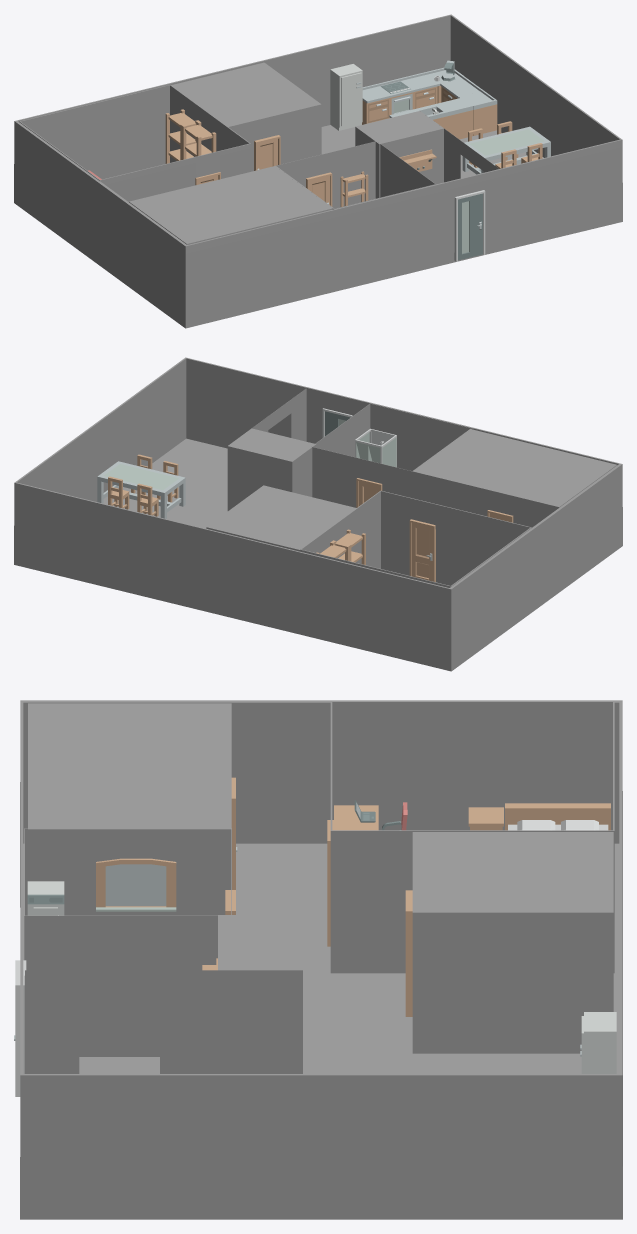
File: greybox environment 2.fbx
3 views of the same model, one above another, from view 1: azimuth 30°, elevation 25°; view 2: azimuth 150°, elevation 25°; view 3: azimuth 270°, elevation 25° (orthographic). The views are drawn at different scales.
Parts seen in each view (by area): view 1: pCube5, pCube1, pCube3, pCube4, pCube2, pCube7, tableGlass:tableGlass, doorwayFront:door, pCube6, kitchenCabinetCornerInner1, kitchenFridge:kitchenFridge, bookcaseOpen:bookcaseOpen (+12 smaller); view 2: pCube5, pCube3, pCube1, pCube2, pCube4, pCube7, tableGlass:tableGlass, pCube6, doorway:door, shower:shower, bookcaseOpen1, chair3 (+2 smaller); view 3: pCube5, pCube1, pCube4, pCube6, pCube3, pCube7, bathroomMirror:bathroomMirror, bedDouble:bedDouble, kitchenFridge:kitchenFridge, dryer:dryer, doorwayFront:doorwayFront, doorway3 (+3 smaller).
Boxes of the visible parts, left/top/right/bottom form: pCube5: left=14, top=14, right=622, bottom=328; pCube1: left=19, top=84, right=250, bottom=201; pCube3: left=129, top=166, right=333, bottom=244; pCube4: left=171, top=62, right=321, bottom=171; pCube2: left=275, top=141, right=435, bottom=209; pCube7: left=355, top=111, right=443, bottom=198; tableGlass:tableGlass: left=462, top=126, right=550, bottom=174; doorwayFront:door: left=458, top=193, right=482, bottom=260; pCube6: left=420, top=111, right=498, bottom=182; kitchenCabinetCornerInner1: left=459, top=89, right=497, bottom=135; kitchenFridge:kitchenFridge: left=330, top=64, right=362, bottom=130; bookcaseOpen:bookcaseOpen: left=165, top=109, right=199, bottom=163; pCube5: left=14, top=357, right=622, bottom=671; pCube3: left=412, top=429, right=616, bottom=527; pCube1: left=300, top=490, right=531, bottom=587; pCube2: left=311, top=403, right=472, bottom=507; pCube4: left=206, top=485, right=356, bottom=551; pCube7: left=227, top=428, right=316, bottom=510; tableGlass:tableGlass: left=97, top=461, right=185, bottom=518; pCube6: left=246, top=388, right=306, bottom=441; doorway:door: left=411, top=522, right=432, bottom=581; shower:shower: left=355, top=428, right=396, bottom=467; bookcaseOpen1: left=332, top=529, right=365, bottom=564; chair3: left=137, top=483, right=158, bottom=516; pCube5: left=20, top=700, right=622, bottom=1219; pCube1: left=330, top=701, right=614, bottom=973; pCube4: left=412, top=832, right=613, bottom=1053; pCube6: left=24, top=916, right=302, bottom=1073; pCube3: left=28, top=703, right=231, bottom=915; pCube7: left=218, top=915, right=302, bottom=1073; bathroomMirror:bathroomMirror: left=96, top=858, right=176, bottom=911; bedDouble:bedDouble: left=505, top=803, right=610, bottom=830; kitchenFridge:kitchenFridge: left=584, top=1012, right=616, bottom=1073; dryer:dryer: left=27, top=881, right=64, bottom=915; doorwayFront:doorwayFront: left=15, top=960, right=26, bottom=1096; doorway3: left=405, top=890, right=412, bottom=1016.
Size of the model in its own units: 15.42 by 2.78 by 10.57.
